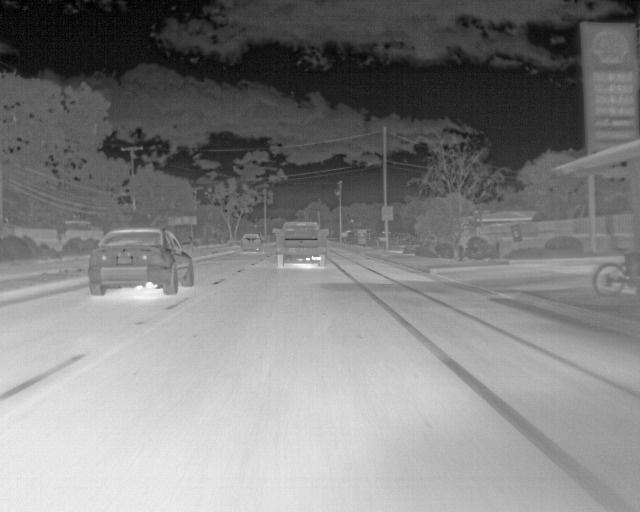bicycle: (592, 261, 637, 297)
car: (88, 227, 195, 298), (274, 219, 326, 270), (240, 233, 260, 253)
